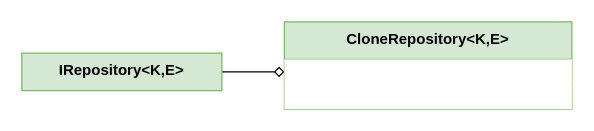
Some shapes in this 594 by 131 pixel diagram are drawn without their labels. The centre of each missing label's shape, as x and y in pixels:
"# cloneFunction: Function<E,E>" goes at (x=427, y=96).
"# sourceRepository: IRepository<K,E>" goes at (x=427, y=71).
